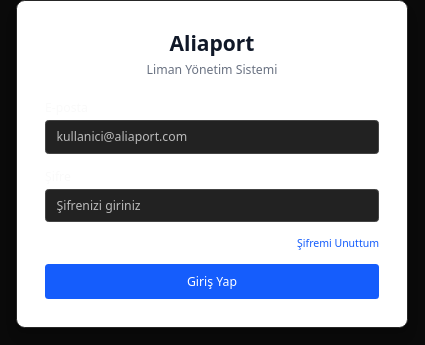
LoginForm › Login Flow › should disable submit button during login attempt
Type "test@aliaport.com" into the field labelled "E-posta" at (212,137), box [45,120,379,154]
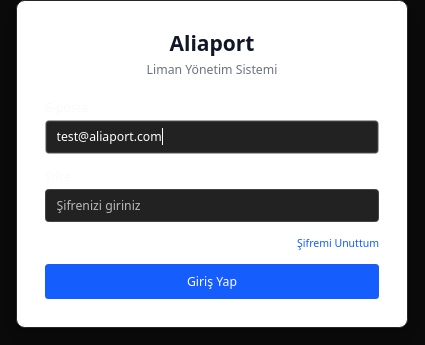
Type "password" into the password field labelled "Şifre" at (212,205), box [45,188,379,222]
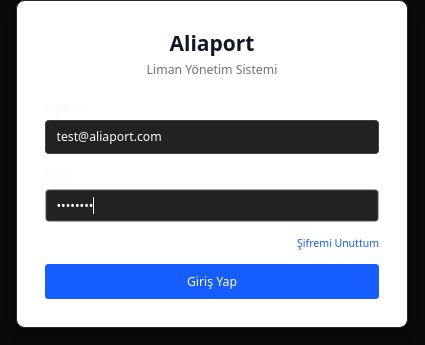
Click the button "Giriş Yap" at (212,282), box [45,264,379,299]
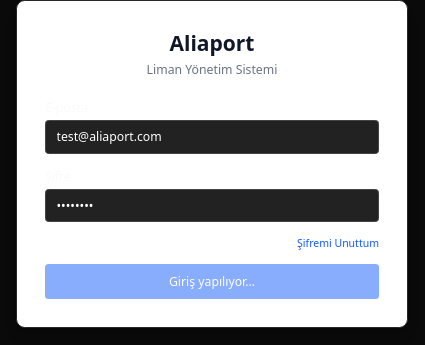
Now the button "Giriş yapılıyor..." is disabled, box [45,264,379,299]
